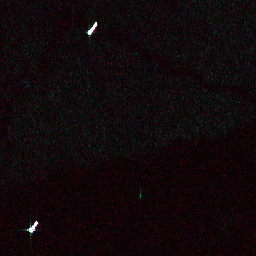ship: (84, 19, 100, 37), (25, 218, 40, 235)
